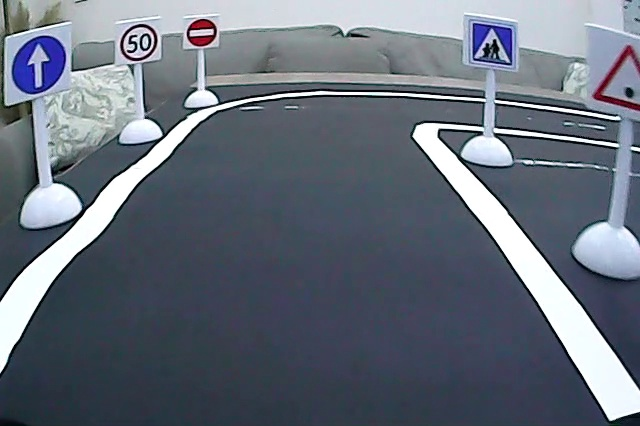do not enter: (185, 17, 219, 49)
green light: (589, 39, 640, 119)
school crossing: (467, 17, 516, 69)
speed limit 50: (119, 21, 160, 62)
